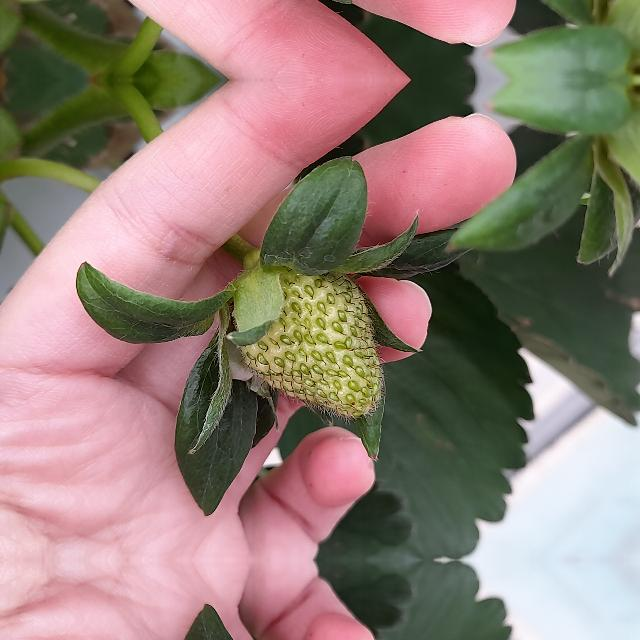Health_25: (236, 248, 382, 416)
